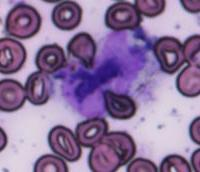D: (92, 28, 152, 92)
